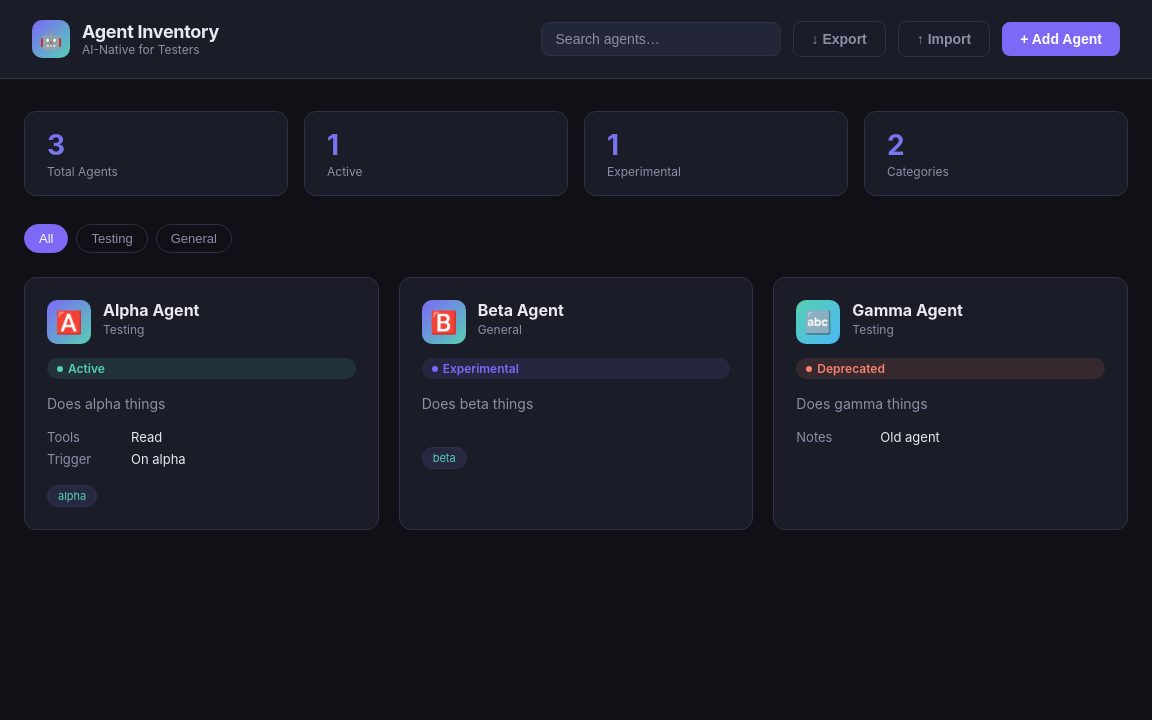
Search › shows empty state when nothing matches
Type "zzznomatch" into the field with class "search-box" at coordinates (660, 39), box left=540, top=22, right=780, bottom=56
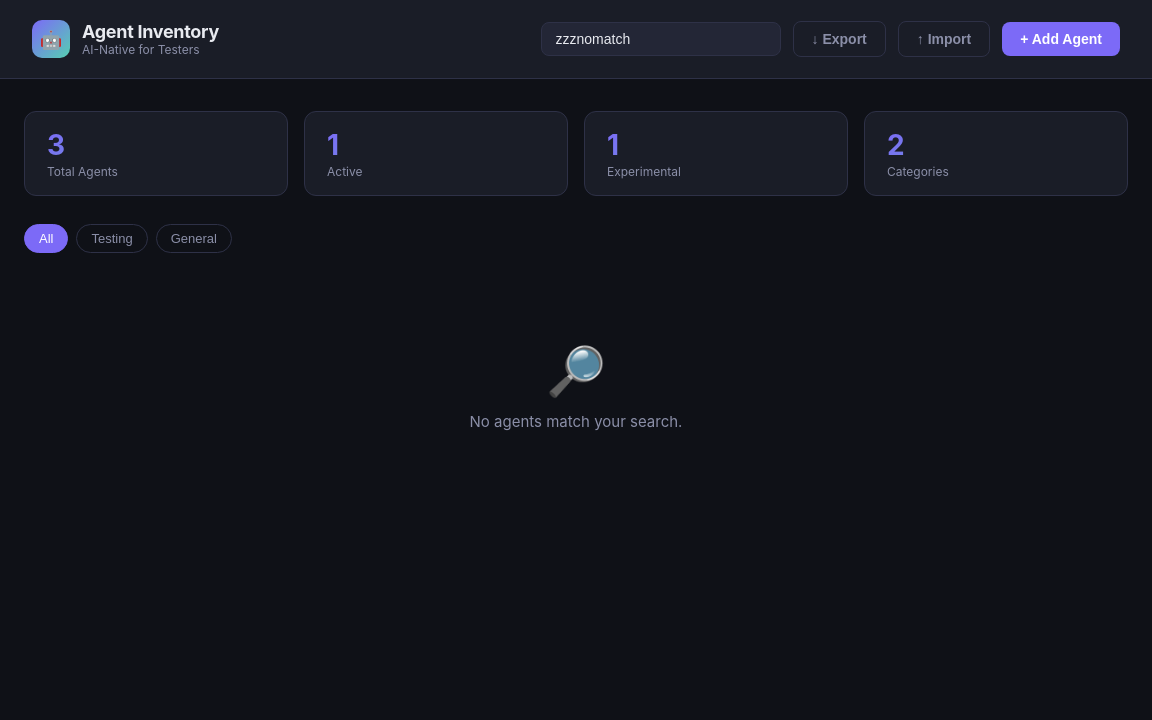
Expected: the element with class "empty-state" is shown, left=470, top=341, right=682, bottom=431
